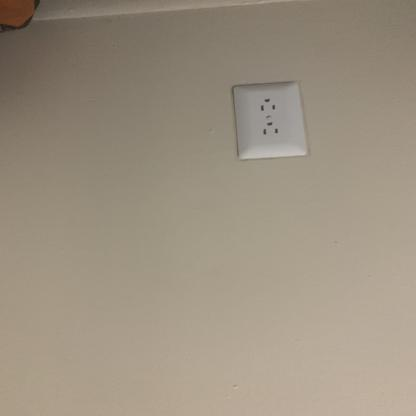OUTLET: (236, 81, 304, 159)
